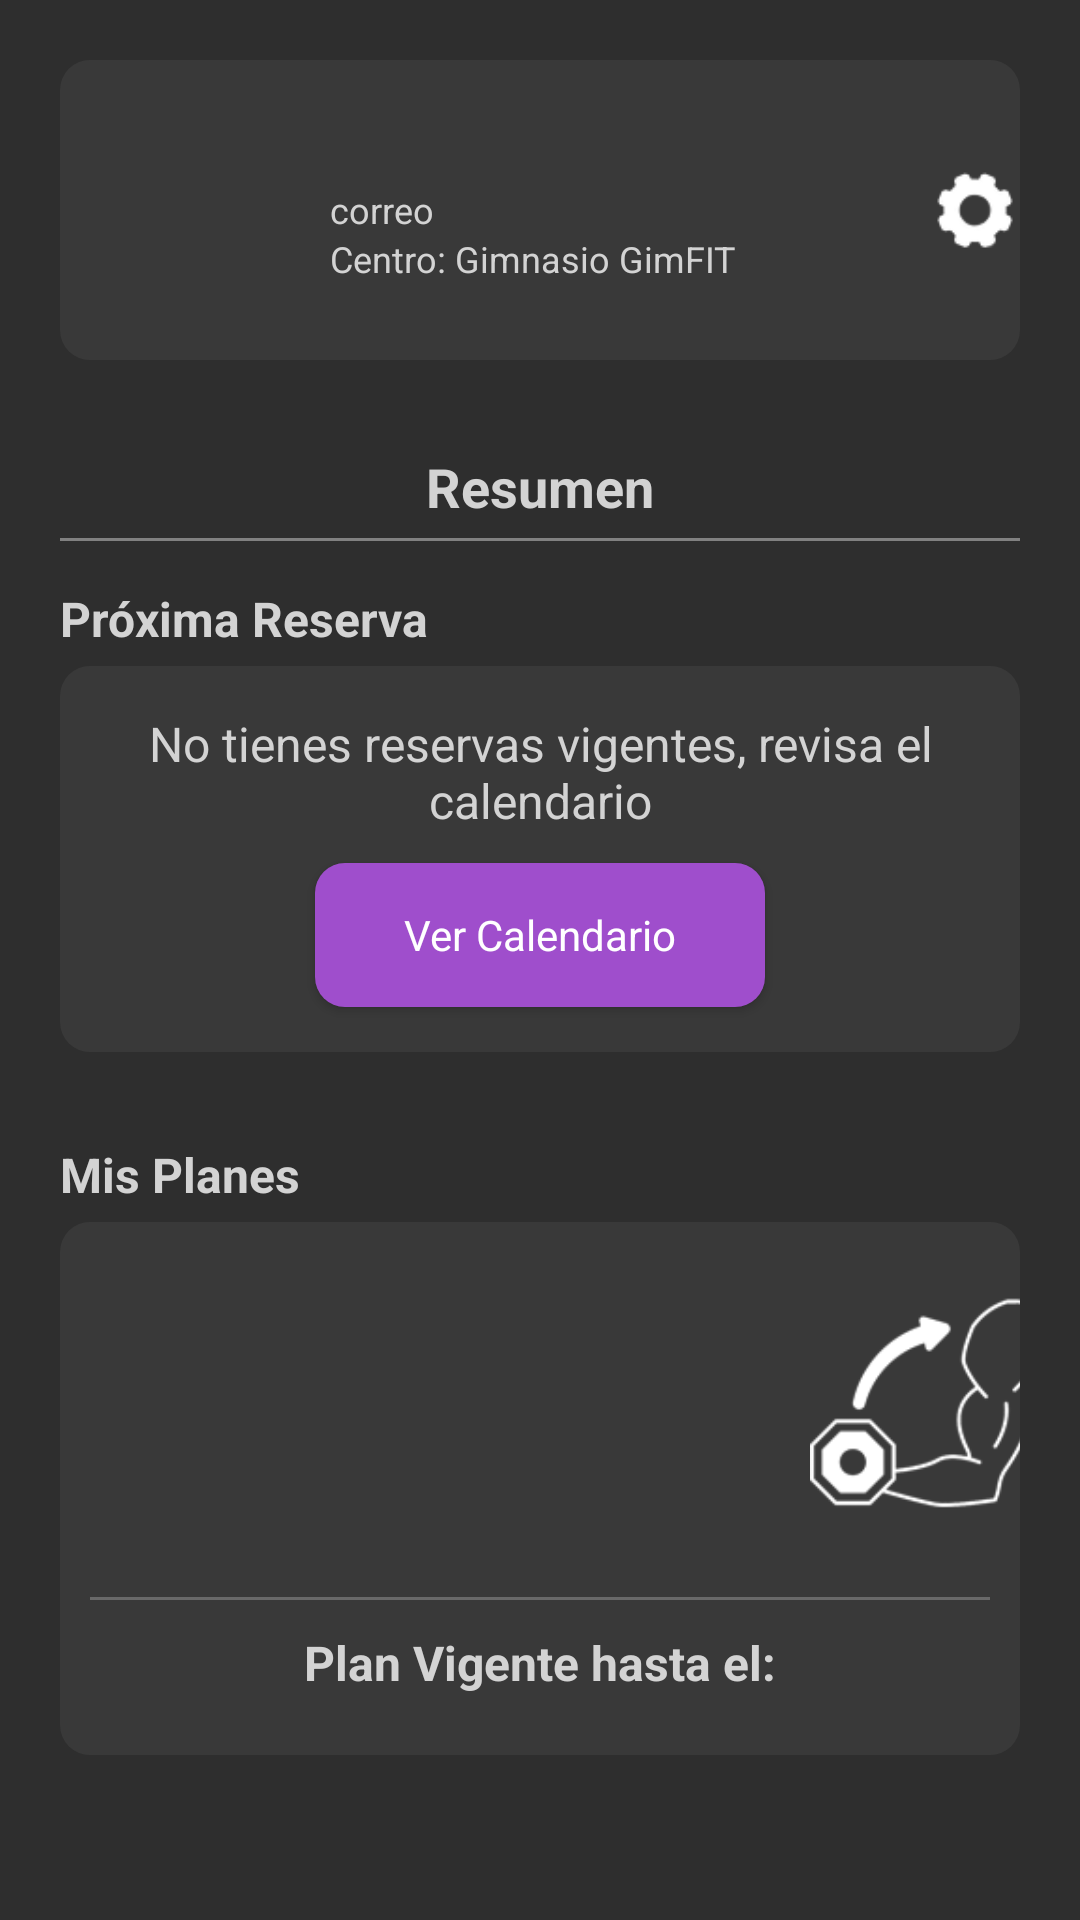

Named icons in this screenshot (1080×1920) and their bounding boxes, (x1, y1, x2, y2):
config: (937, 173, 1013, 248)
